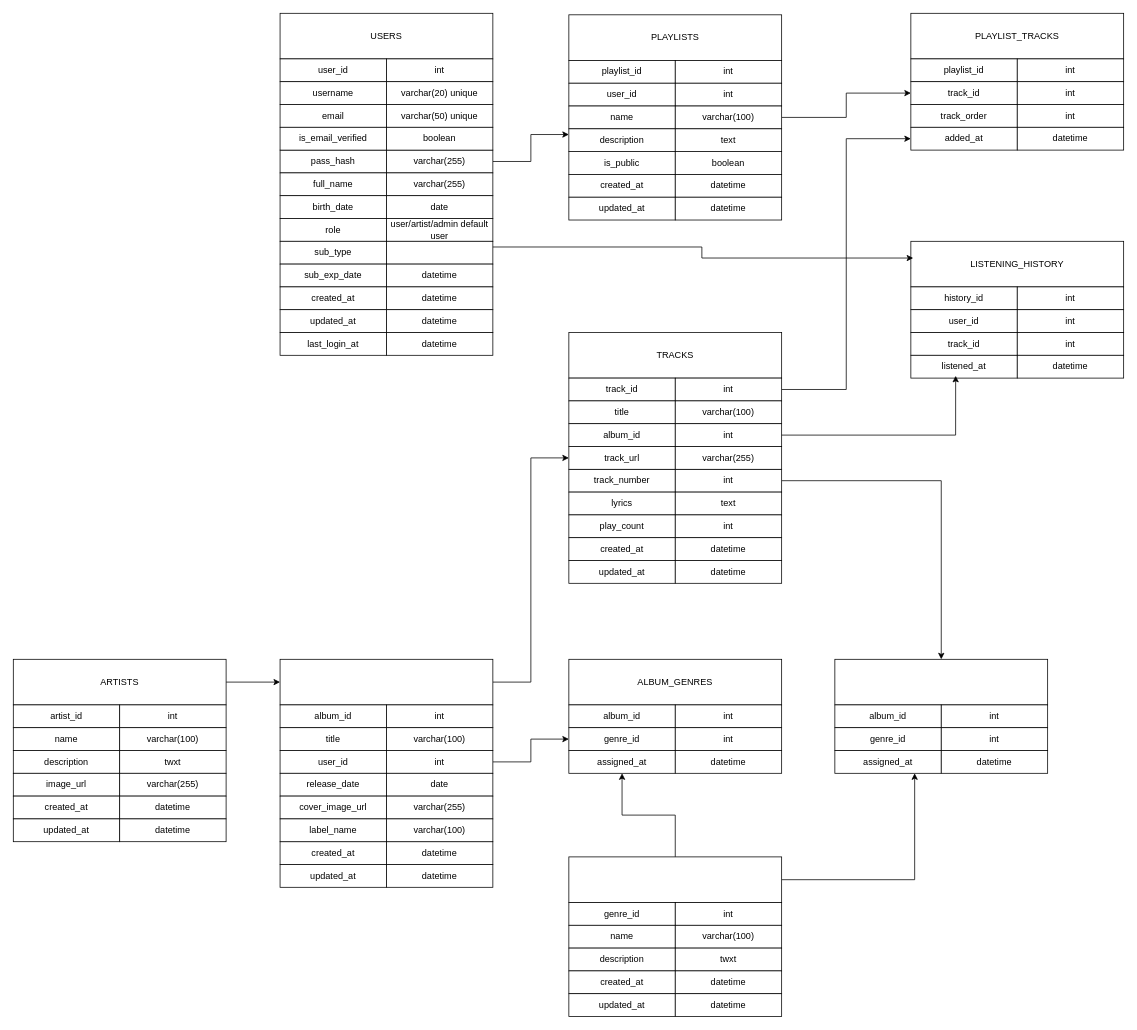
Some shapes in this 1137 by 1030 pixel diagram are drawn without their labels. Each missing label, with the centre of its shape:
ALBUMS: (x=386, y=682)
free/premium/family/student: (x=439, y=252)
GENRES: (x=675, y=879)
TRACK_GENRES: (x=941, y=682)
